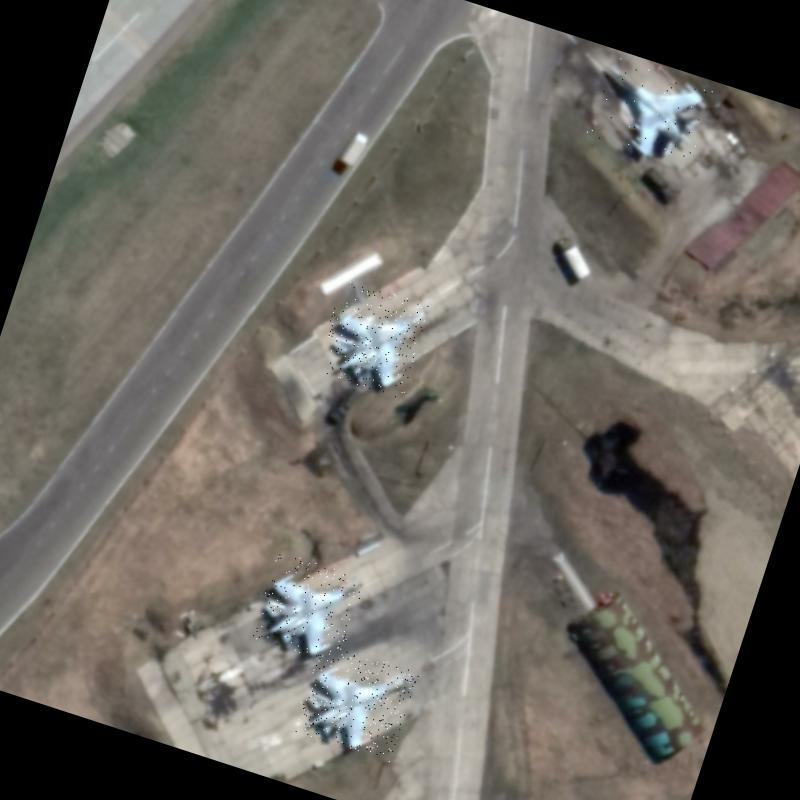A1: (583, 53, 715, 173), (292, 640, 420, 762), (314, 276, 433, 400), (249, 550, 367, 666)
